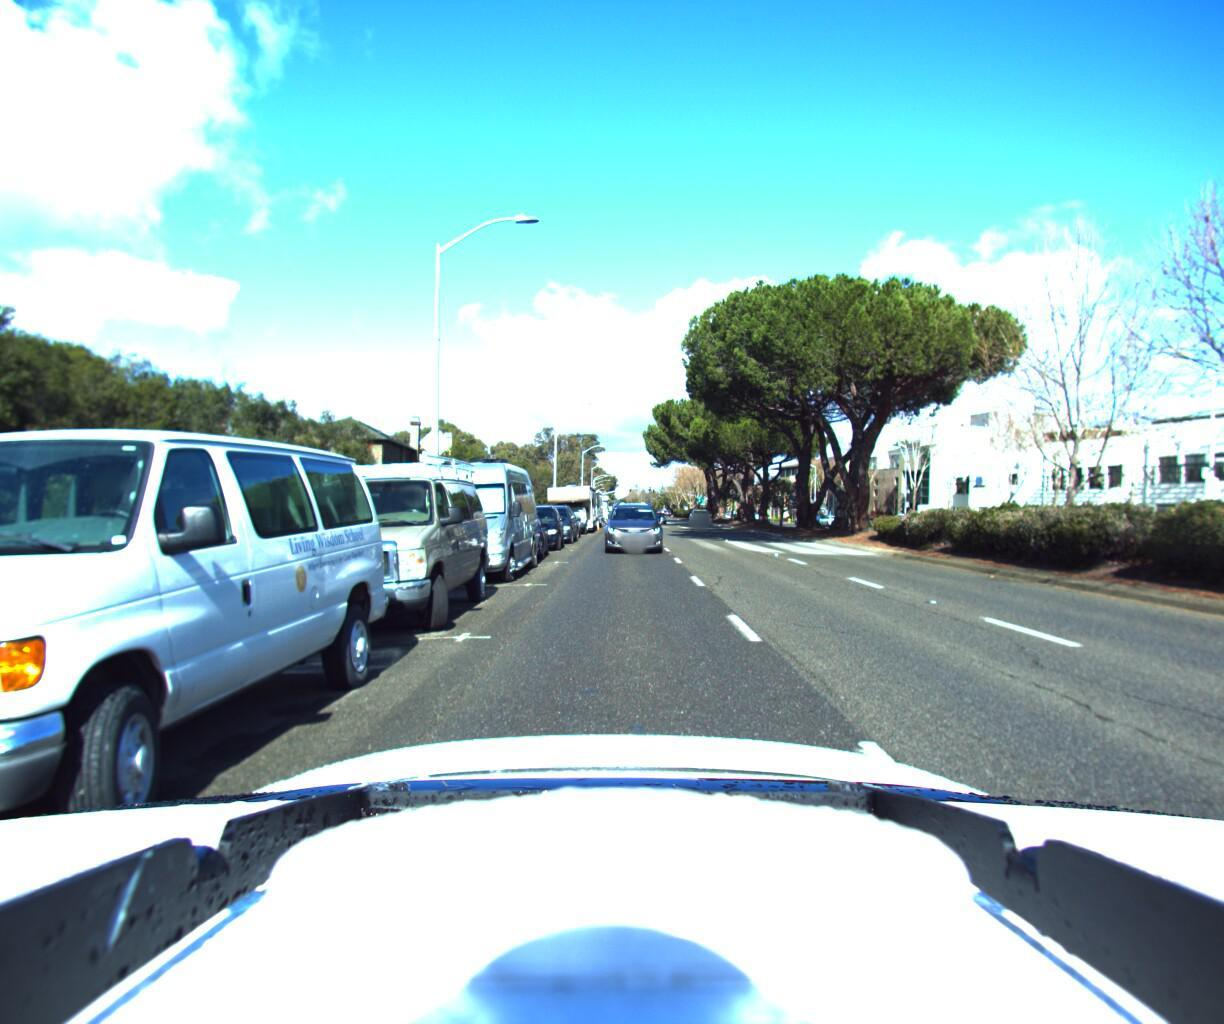car: (0, 351, 397, 945), (236, 438, 492, 651), (399, 439, 537, 592), (476, 513, 547, 562), (605, 496, 659, 556), (504, 503, 566, 553), (523, 502, 578, 546), (687, 504, 711, 522)
other_vehicle: (541, 478, 598, 534)
